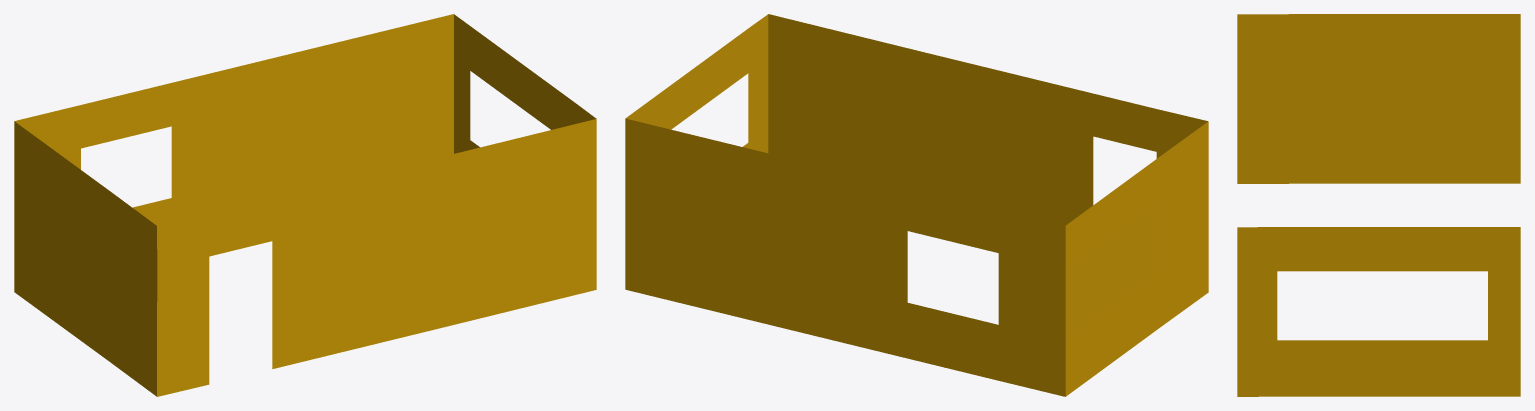
3 views of the same model, side by side, from view 1: azimuth 30°, elevation 25°; view 2: azimuth 150°, elevation 25°; view 3: azimuth 270°, elevation 25° (orthographic).
Visible parts, largest first — view 1: H07C_WP_07; view 2: H07C_WP_07; view 3: H07C_WP_07.
Part boxes in pixels (bbox=[...]): H07C_WP_07: bbox=[14, 14, 596, 396]; H07C_WP_07: bbox=[625, 14, 1208, 396]; H07C_WP_07: bbox=[1237, 14, 1520, 396].
Size of the model in its own units: 807 by 301 by 454.
